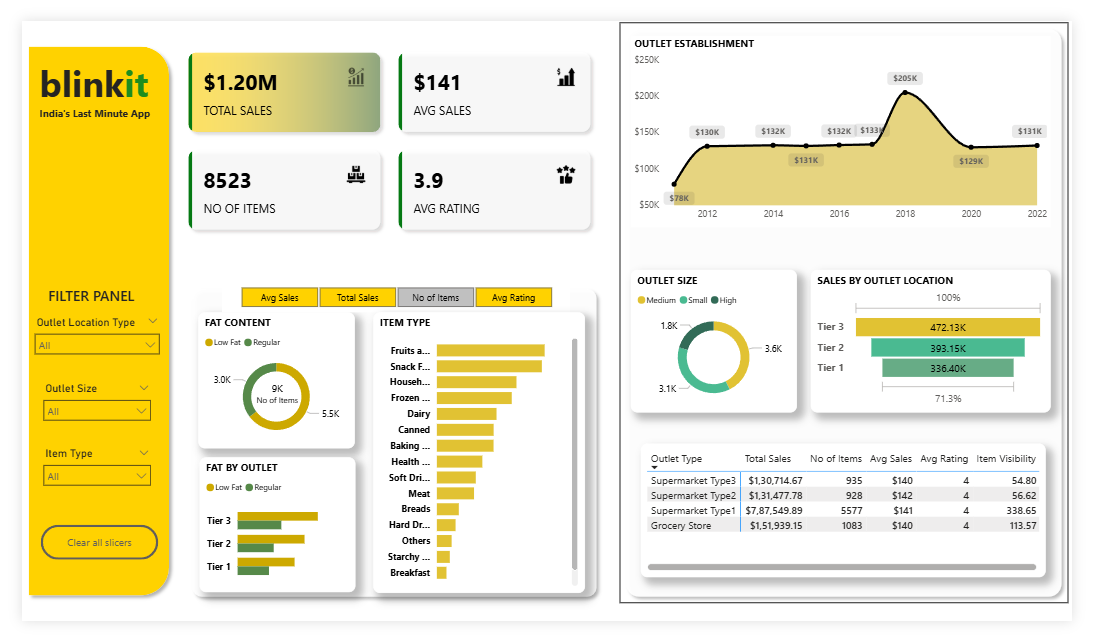

This screenshot's page, from the dashboard's own definition file:
{"tool":"powerbi","page":{"name":"Page 1","canvas":[1400,800],"ordinal":0},"visuals":[{"type":"shape","box":[0,25,205,750],"z":0},{"type":"textbox","box":[17.5,45,165,82.5],"z":1000},{"type":"textbox","box":[17.5,107.5,292.5,37.5],"z":2000},{"type":"cardVisual","fields":{"Data":["BlinkIT Grocery Data Excel xlsx - BlinkIT Grocery Data.Total Sales","BlinkIT Grocery Data Excel xlsx - BlinkIT Grocery Data.Avg Sales","BlinkIT Grocery Data Excel xlsx - BlinkIT Grocery Data.No of Items","BlinkIT Grocery Data Excel xlsx - BlinkIT Grocery Data.Avg Rating"]},"box":[205,25,570,270],"z":3000},{"type":"shape","box":[218.3,348.3,556.7,428.3],"z":4000},{"type":"donutChart","title":"FAT CONTENT","fields":{"Y":["BlinkIT Grocery Data Excel xlsx - BlinkIT Grocery Data.No of Items"],"Category":["BlinkIT Grocery Data Excel xlsx - BlinkIT Grocery Data.Item Fat Content"]},"box":[235.7,388.6,208.6,181.4],"z":5000},{"type":"slicer","fields":{"Values":["Metrics.Metrics"]},"box":[266,348,464,40],"z":6000},{"type":"cardVisual","fields":{"Data":["BlinkIT Grocery Data Excel xlsx - BlinkIT Grocery Data.No of Items"]},"box":[292.9,461.4,94.3,70],"z":7000},{"type":"clusteredBarChart","title":"FAT BY OUTLET","fields":{"Y":["BlinkIT Grocery Data Excel xlsx - BlinkIT Grocery Data.No of Items"],"Category":["BlinkIT Grocery Data Excel xlsx - BlinkIT Grocery Data.Outlet Location Type"],"Series":["BlinkIT Grocery Data Excel xlsx - BlinkIT Grocery Data.Item Fat Content"]},"box":[236,582,208,180],"z":8000},{"type":"clusteredBarChart","title":"ITEM TYPE","fields":{"Y":["BlinkIT Grocery Data Excel xlsx - BlinkIT Grocery Data.No of Items"],"Category":["BlinkIT Grocery Data Excel xlsx - BlinkIT Grocery Data.Item Type"]},"box":[468,388,282,374],"z":9000},{"type":"shape","box":[796.7,1.7,598.3,775],"z":10000},{"type":"lineChart","title":"OUTLET ESTABLISHMENT","fields":{"Category":["BlinkIT Grocery Data Excel xlsx - BlinkIT Grocery Data.Outlet Establishment Year"],"Y":["BlinkIT Grocery Data Excel xlsx - BlinkIT Grocery Data.Total Sales"]},"box":[811.7,20,560,255],"z":11000},{"type":"donutChart","title":"OUTLET SIZE","fields":{"Y":["BlinkIT Grocery Data Excel xlsx - BlinkIT Grocery Data.No of Items"],"Category":["BlinkIT Grocery Data Excel xlsx - BlinkIT Grocery Data.Outlet Size"]},"box":[811.4,331.4,221.4,190],"z":12000},{"type":"funnel","title":"SALES BY OUTLET LOCATION","fields":{"Category":["BlinkIT Grocery Data Excel xlsx - BlinkIT Grocery Data.Outlet Location Type"],"Y":["Sum(BlinkIT Grocery Data Excel xlsx - BlinkIT Grocery Data.Sales)"]},"box":[1051.4,331.4,320,190],"z":13000},{"type":"pivotTable","fields":{"Rows":["BlinkIT Grocery Data Excel xlsx - BlinkIT Grocery Data.Outlet Type"],"Values":["BlinkIT Grocery Data Excel xlsx - BlinkIT Grocery Data.Total Sales","BlinkIT Grocery Data Excel xlsx - BlinkIT Grocery Data.No of Items","BlinkIT Grocery Data Excel xlsx - BlinkIT Grocery Data.Avg Sales","BlinkIT Grocery Data Excel xlsx - BlinkIT Grocery Data.Avg Rating","Sum(BlinkIT Grocery Data Excel xlsx - BlinkIT Grocery Data.Item Visibility)"]},"box":[824.3,562.9,540,178.6],"z":14000},{"type":"slicer","fields":{"Values":["BlinkIT Grocery Data Excel xlsx - BlinkIT Grocery Data.Outlet Location Type"]},"box":[6.7,388.3,186.7,73.3],"z":15000},{"type":"slicer","fields":{"Values":["BlinkIT Grocery Data Excel xlsx - BlinkIT Grocery Data.Outlet Size"]},"box":[18.3,476.7,163.3,75],"z":16000},{"type":"slicer","fields":{"Values":["BlinkIT Grocery Data Excel xlsx - BlinkIT Grocery Data.Item Type"]},"box":[18.3,563.3,163.3,75],"z":17000},{"type":"textbox","box":[30,348.3,133.3,40],"z":18000},{"type":"actionButton","box":[25,671.7,156.7,46.7],"z":19000}]}

Visuals, with their boxes in screenshot pixels (x1, y1, x2, y2), scaled from the page's 1400x800 canvas onto the 1095x640 screenshot:
shape: [left=0, top=20, right=160, bottom=620]
textbox: [left=14, top=36, right=143, bottom=102]
textbox: [left=14, top=86, right=242, bottom=116]
cardVisual - BlinkIT Grocery Data Excel xlsx - BlinkIT Grocery Data.Total Sales x BlinkIT Grocery Data Excel xlsx - BlinkIT Grocery Data.Avg Sales: [left=160, top=20, right=606, bottom=236]
shape: [left=171, top=279, right=606, bottom=621]
"FAT CONTENT" donutChart: [left=184, top=311, right=348, bottom=456]
slicer - Metrics.Metrics: [left=208, top=278, right=571, bottom=310]
cardVisual - BlinkIT Grocery Data Excel xlsx - BlinkIT Grocery Data.No of Items: [left=229, top=369, right=303, bottom=425]
"FAT BY OUTLET" clusteredBarChart: [left=185, top=466, right=347, bottom=610]
"ITEM TYPE" clusteredBarChart: [left=366, top=310, right=587, bottom=610]
shape: [left=623, top=1, right=1091, bottom=621]
"OUTLET ESTABLISHMENT" lineChart: [left=635, top=16, right=1073, bottom=220]
"OUTLET SIZE" donutChart: [left=635, top=265, right=808, bottom=417]
"SALES BY OUTLET LOCATION" funnel: [left=822, top=265, right=1073, bottom=417]
pivotTable - BlinkIT Grocery Data Excel xlsx - BlinkIT Grocery Data.Outlet Type x BlinkIT Grocery Data Excel xlsx - BlinkIT Grocery Data.Total Sales: [left=645, top=450, right=1067, bottom=593]
slicer - BlinkIT Grocery Data Excel xlsx - BlinkIT Grocery Data.Outlet Location Type: [left=5, top=311, right=151, bottom=369]
slicer - BlinkIT Grocery Data Excel xlsx - BlinkIT Grocery Data.Outlet Size: [left=14, top=381, right=142, bottom=441]
slicer - BlinkIT Grocery Data Excel xlsx - BlinkIT Grocery Data.Item Type: [left=14, top=451, right=142, bottom=511]
textbox: [left=23, top=279, right=128, bottom=311]
actionButton: [left=20, top=537, right=142, bottom=575]
